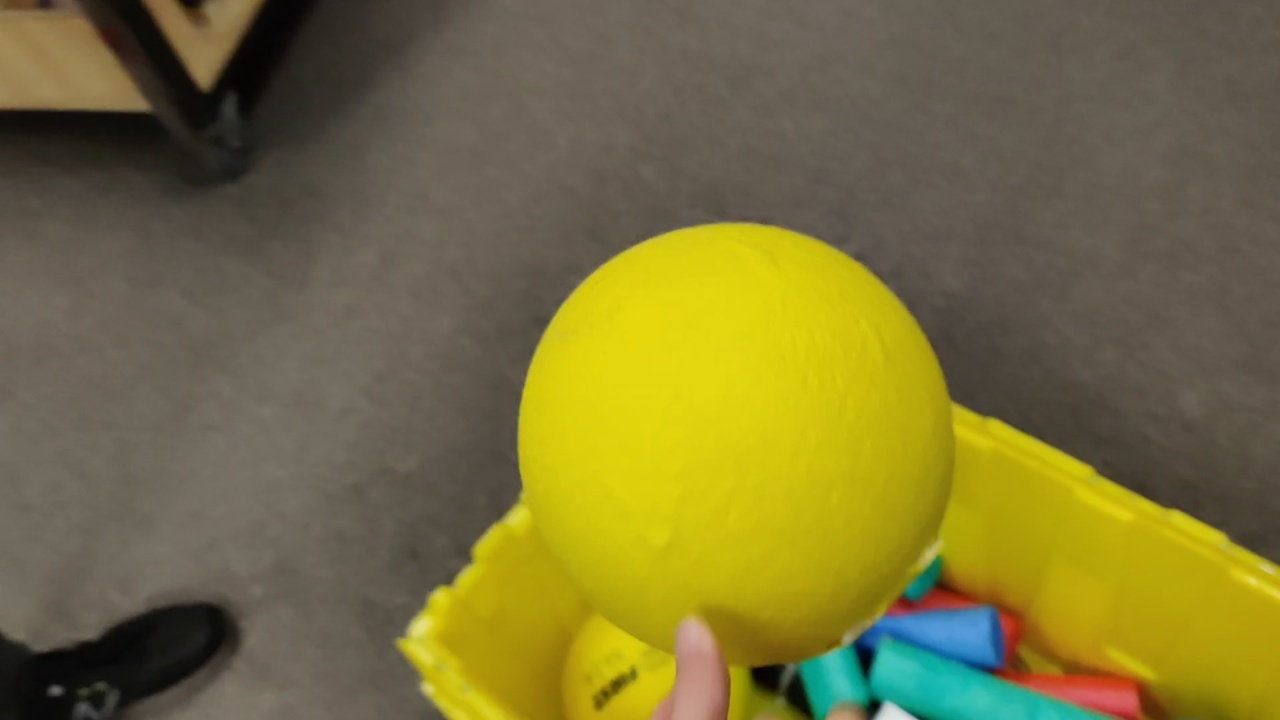Ball: (521, 221, 955, 664), (557, 616, 753, 720)
